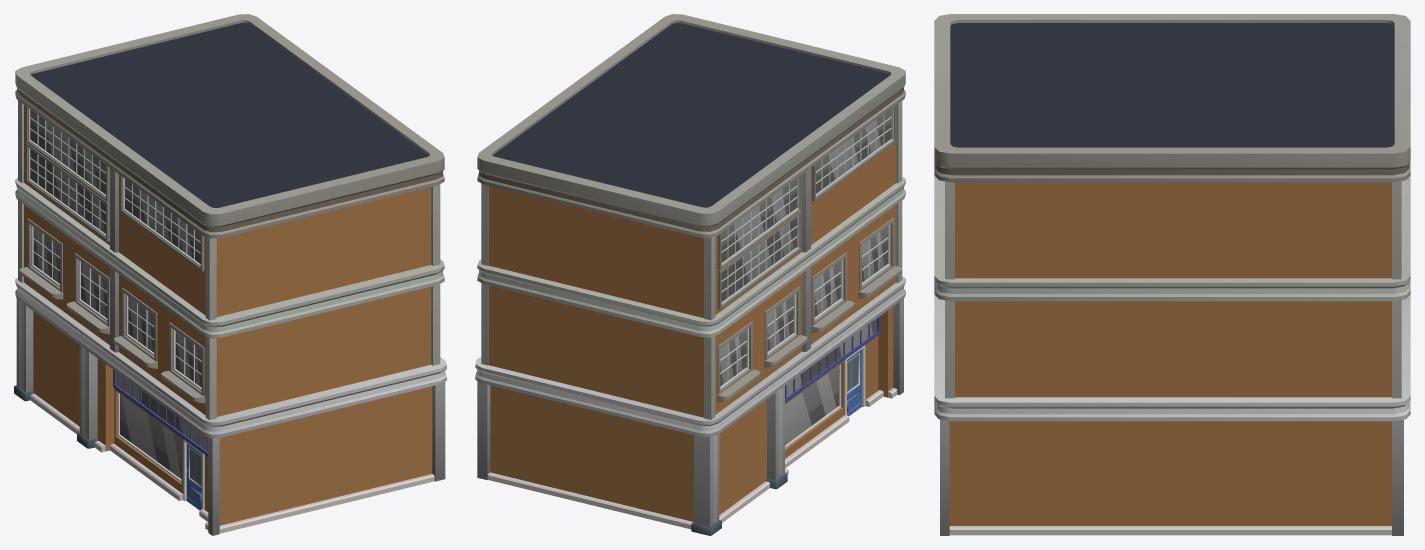
File: Building_11_1_H.fbx
3 views of the same model, side by side, from view 1: azimuth 30°, elevation 25°; view 2: azimuth 150°, elevation 25°; view 3: azimuth 270°, elevation 25° (orthographic). The views are drawn at different scales.
Visible parts, largest first — view 1: Building_11_1_H; view 2: Building_11_1_H; view 3: Building_11_1_H.
Boxes of the visible parts, x1,y1,x2,y2 form: Building_11_1_H: (14, 14, 446, 535); Building_11_1_H: (475, 14, 905, 535); Building_11_1_H: (934, 14, 1410, 535).
Bounding box in the file's own units: 827 × 1034 × 1163.
